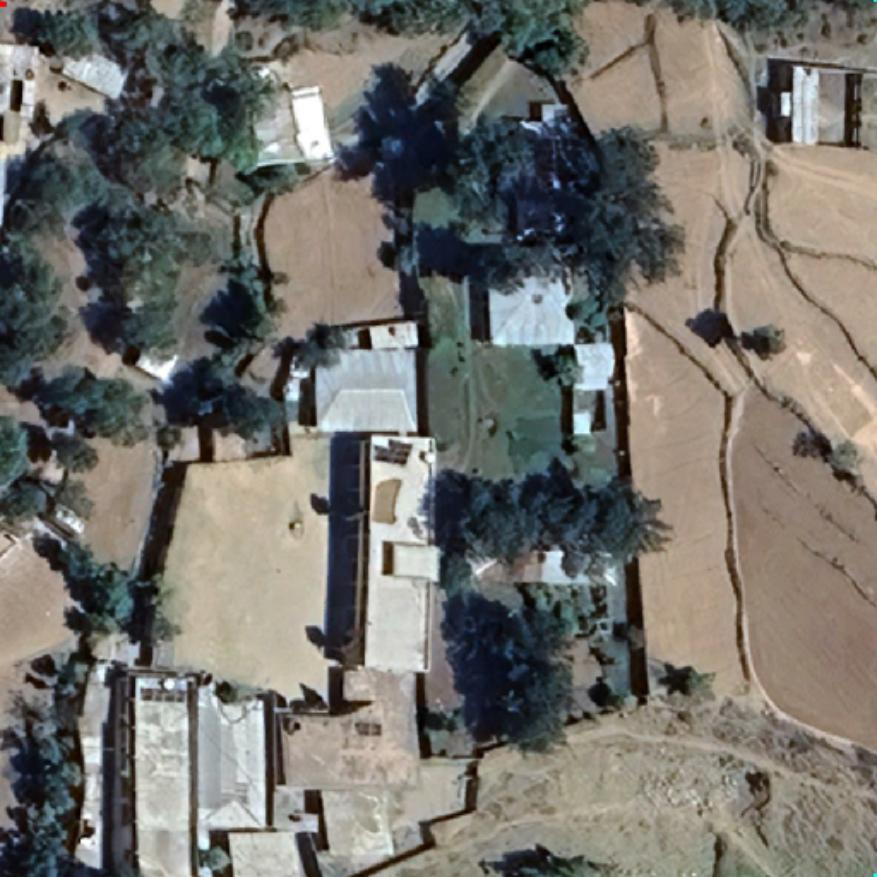Solarpanel: (372, 438, 414, 468)
